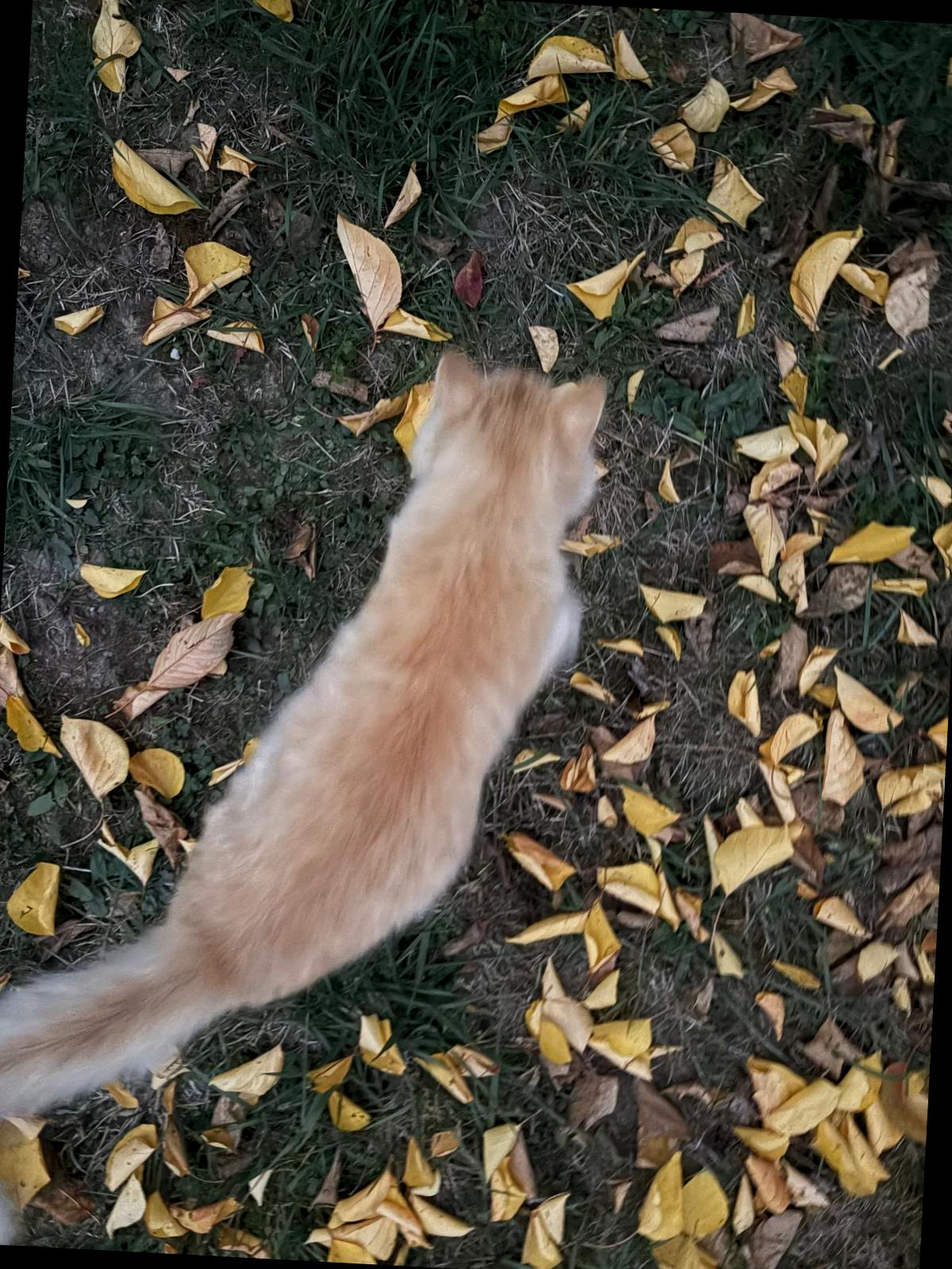macka: (0, 327, 608, 1153)
